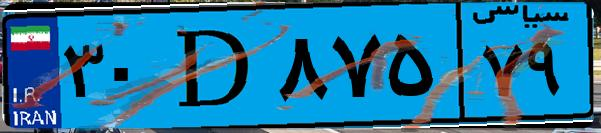0: (110, 28, 158, 98)
3: (57, 26, 110, 100)
5: (385, 28, 445, 110)
7: (330, 28, 385, 110), (475, 38, 525, 113)
8: (270, 28, 330, 110)
9: (525, 38, 570, 115)
D: (158, 12, 270, 120)
